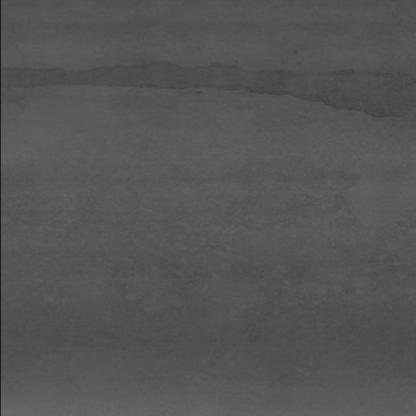water_spot: (15, 55, 406, 118)
